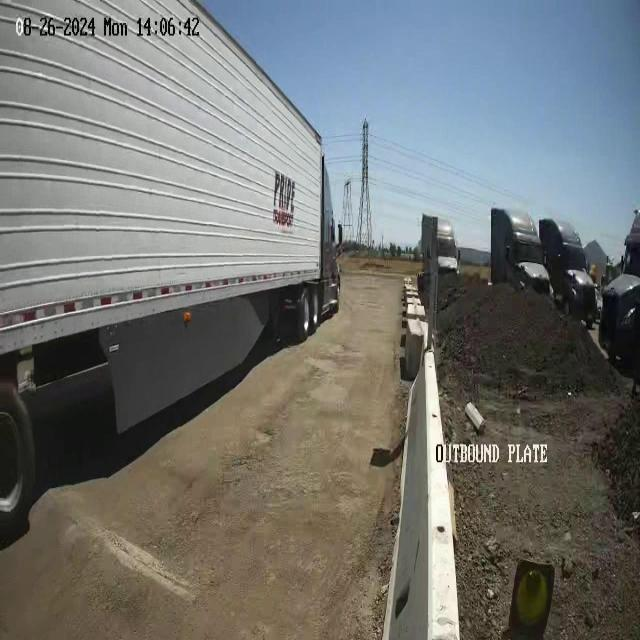TRUCK_CONTAINER: (1, 0, 342, 542)
